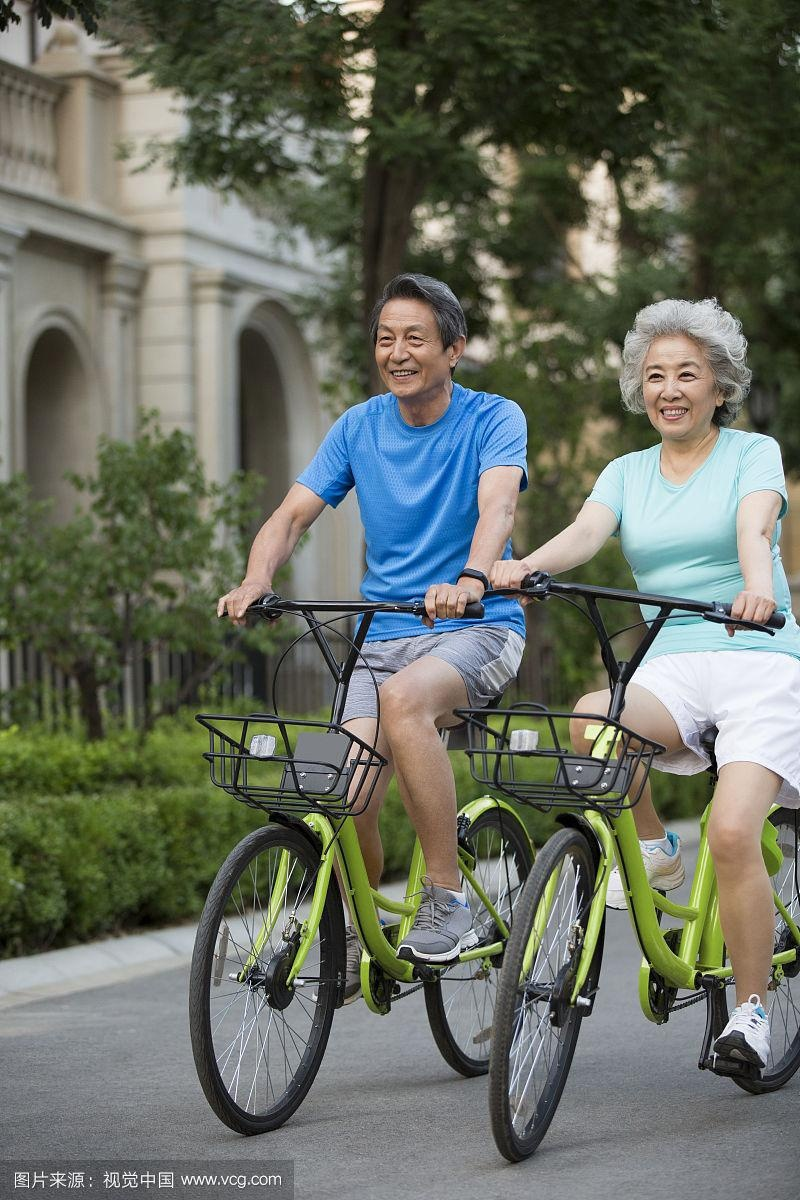non-vehicle: (151, 589, 568, 1096), (472, 580, 800, 1165)
